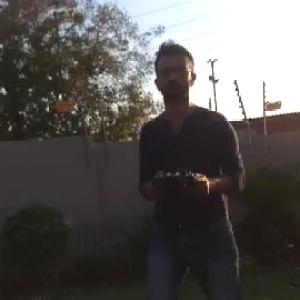follow: (133, 35, 252, 299)
